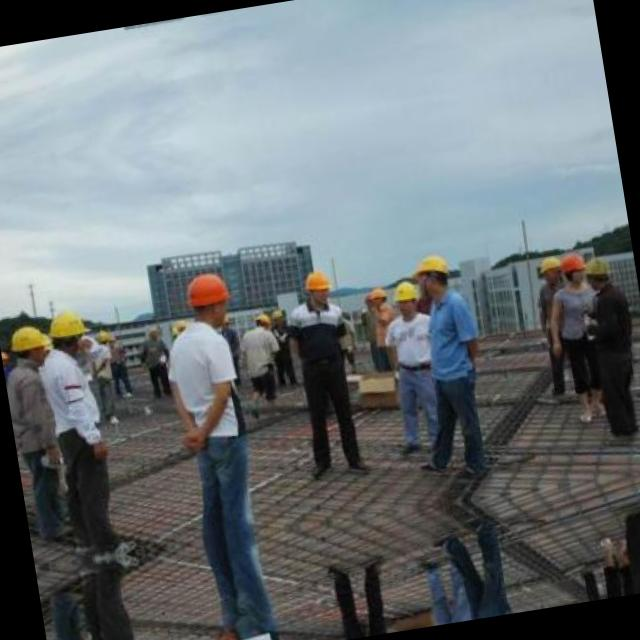helmet: (180, 262, 236, 330), (408, 245, 457, 303), (44, 302, 90, 358), (8, 321, 50, 368), (298, 262, 338, 307), (580, 254, 615, 288), (388, 280, 419, 318), (558, 249, 586, 289), (534, 253, 562, 290), (249, 307, 273, 336), (367, 285, 387, 309), (92, 324, 108, 348), (173, 315, 188, 332)
